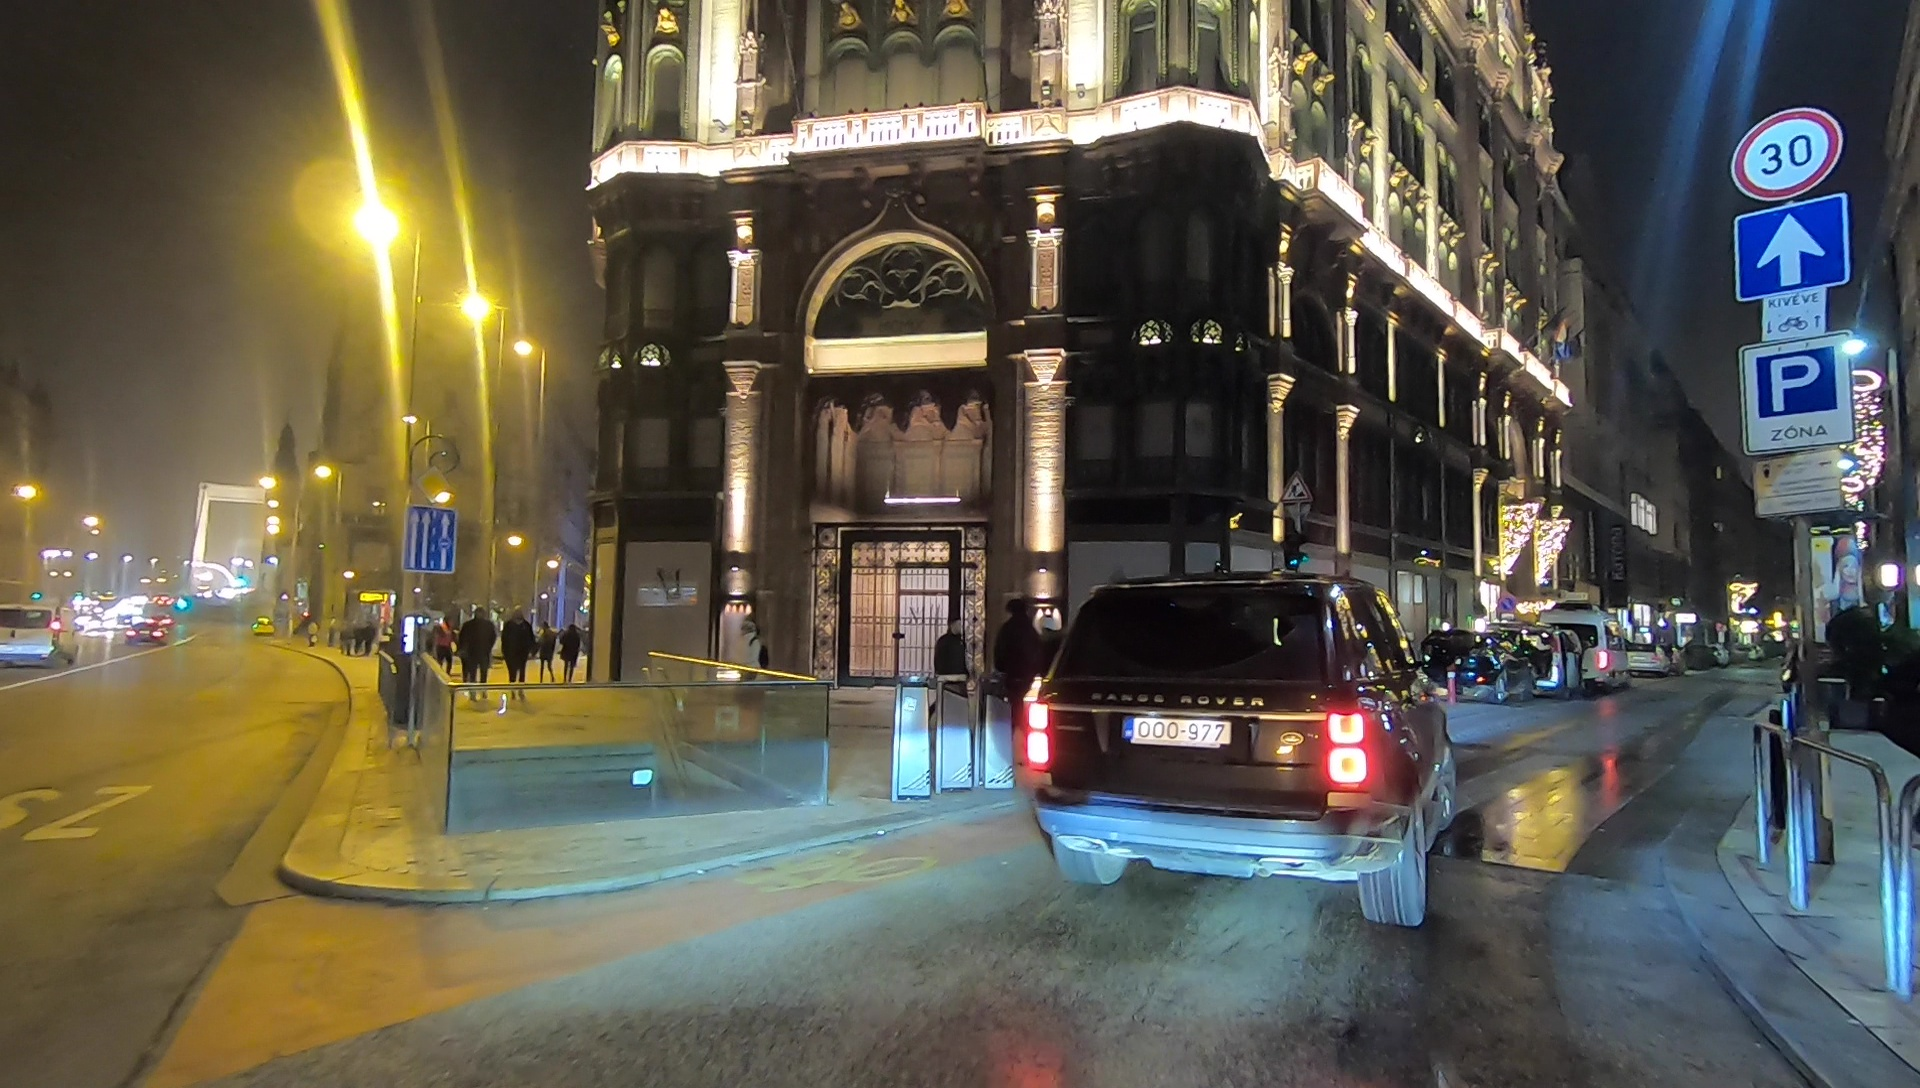person: (994, 602, 1040, 725), (929, 618, 972, 744), (735, 621, 772, 718), (462, 607, 495, 703), (503, 606, 536, 701), (434, 616, 455, 681), (537, 620, 557, 682), (560, 622, 580, 685)
